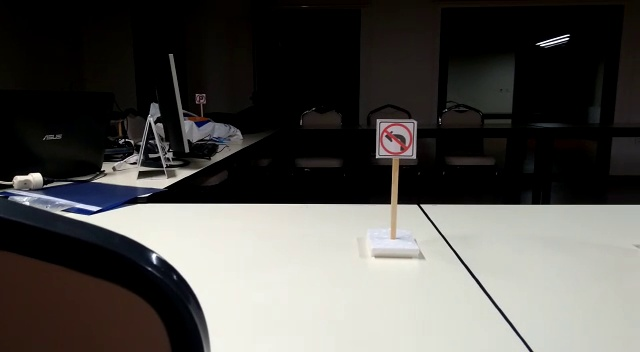sola_donulmez: (375, 118, 417, 158)
